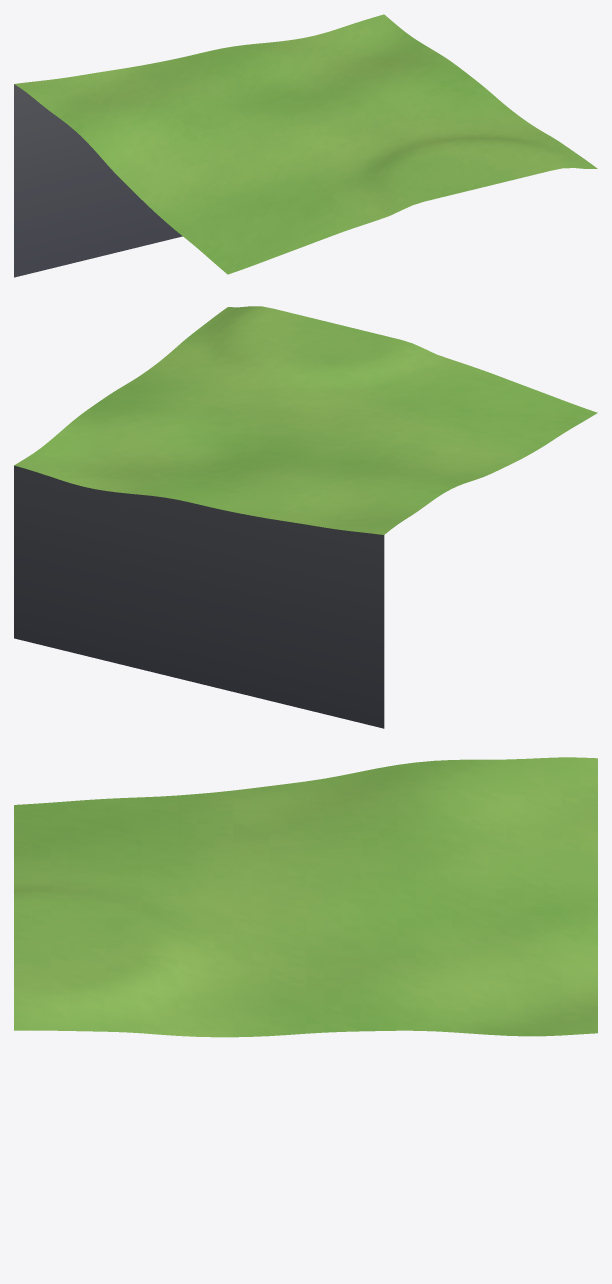
File: terrain_r5_c3.glb
The picture shows the model from 3 angles, top to bottom: view 1: azimuth 30°, elevation 25°; view 2: azimuth 150°, elevation 25°; view 3: azimuth 270°, elevation 25°; orthographic projection. The views are drawn at different scales.
Parts seen in each view (by area): view 1: terrain_r5_c3; view 2: terrain_r5_c3; view 3: terrain_r5_c3.
Part boxes in pixels (box(x1,y1,x2,y2)): terrain_r5_c3: box(14, 14, 597, 277); terrain_r5_c3: box(14, 306, 597, 728); terrain_r5_c3: box(14, 757, 597, 1037).
Size of the model in its own units: 128 by 64.19 by 128.
Materials: 1 (1 with a texture image).
